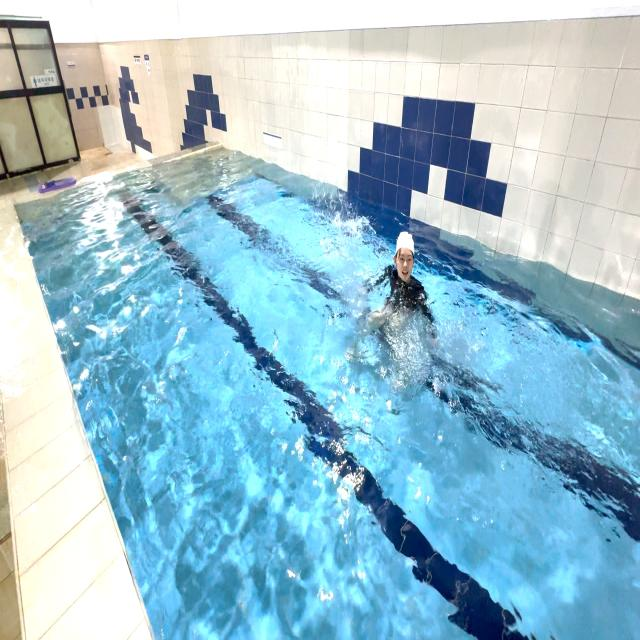Swimming: (355, 224, 440, 398)
